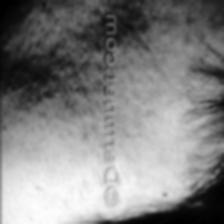Unclassified: (0, 1, 98, 162), (118, 0, 178, 162)
